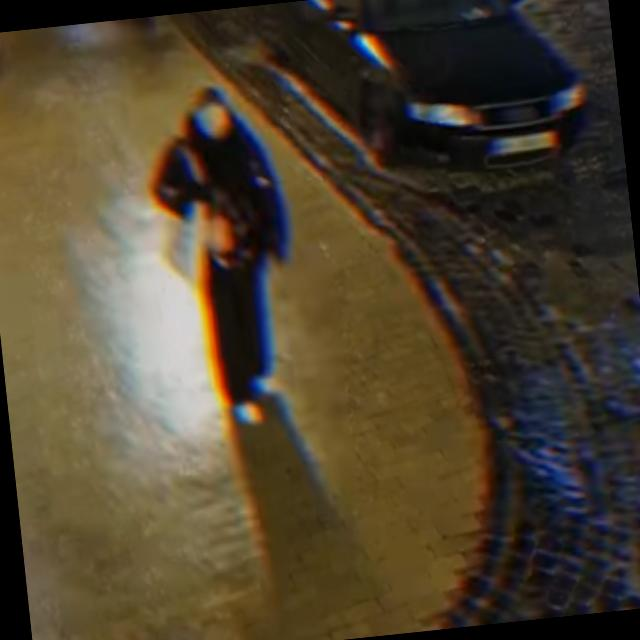person: (141, 79, 310, 425)
